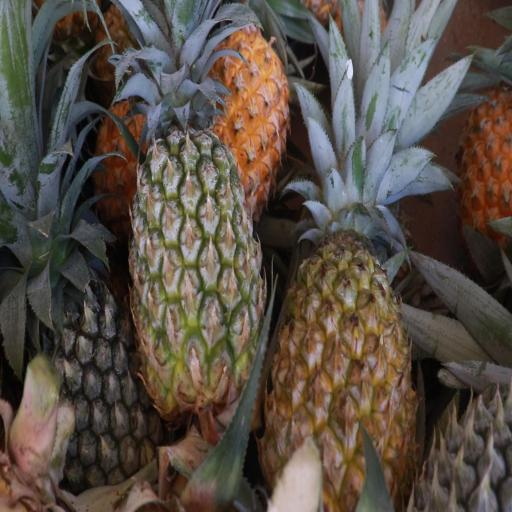------------------------------: (130, 118, 260, 408)
Pineapple - v8 v1: (262, 179, 412, 512), (139, 16, 285, 155), (449, 91, 512, 233)
